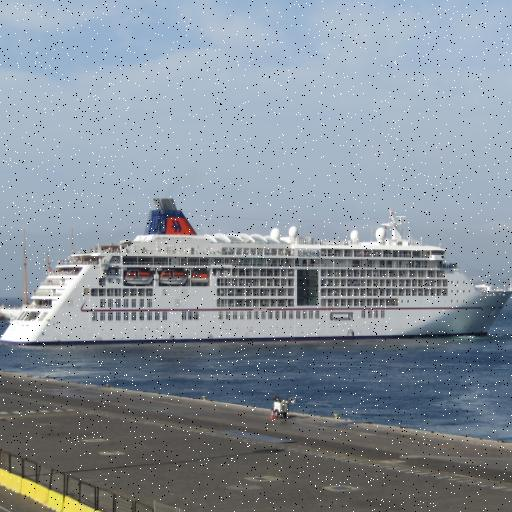cruises: (1, 195, 512, 350)
